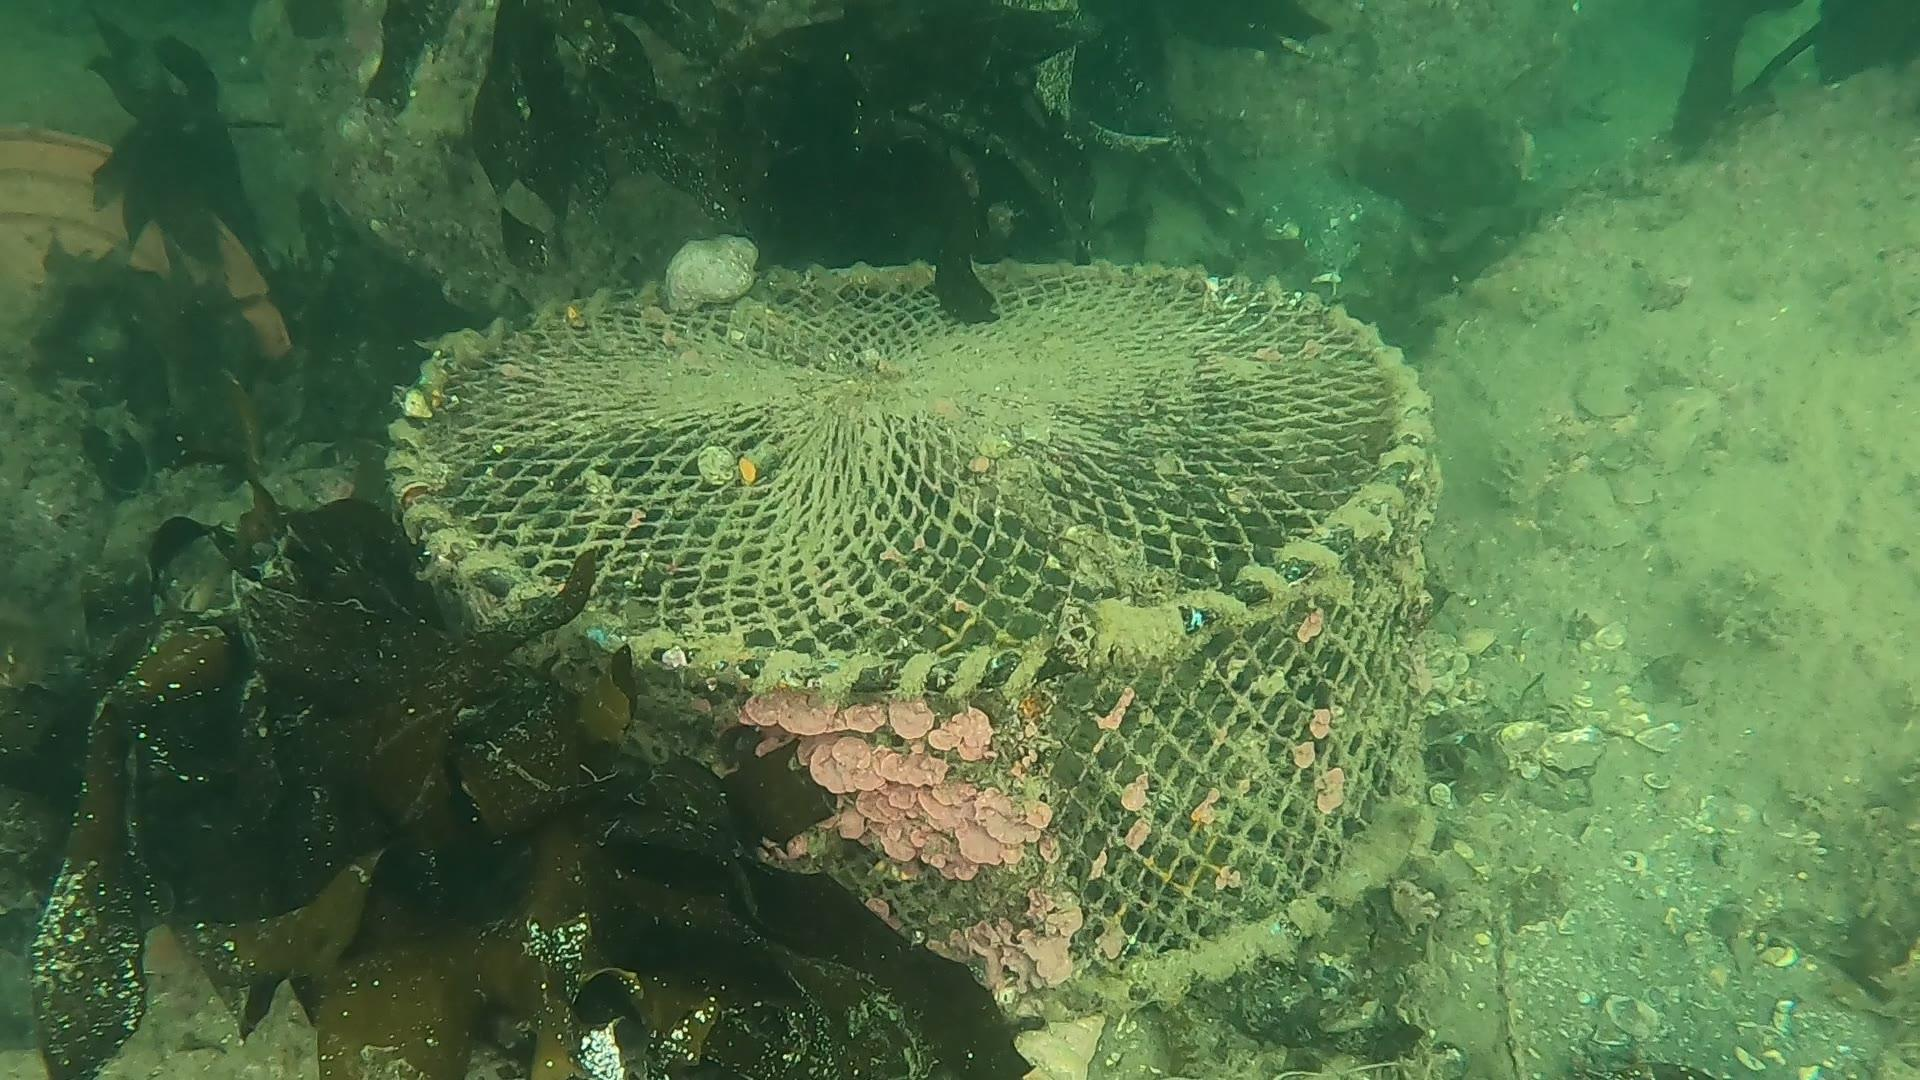circular fish trap: (377, 251, 1451, 1013)
